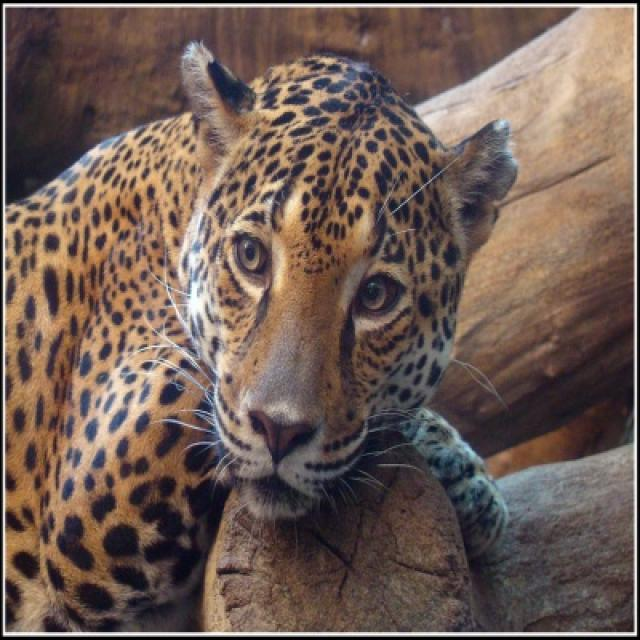Jaguar: (6, 43, 520, 635)
